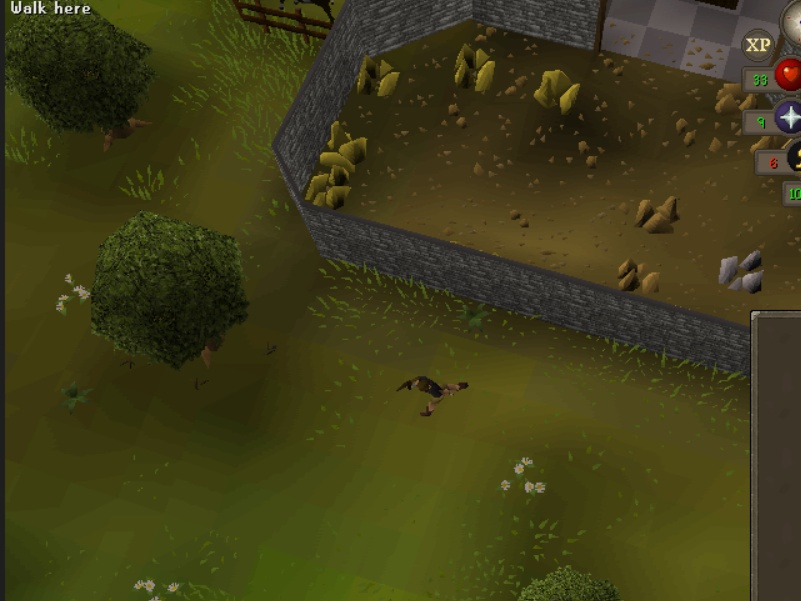clay: (614, 253, 664, 299), (710, 74, 760, 120), (634, 188, 684, 234)
gold: (353, 48, 403, 100), (301, 165, 351, 217), (319, 120, 369, 172), (533, 62, 583, 114), (450, 40, 500, 92)
silver: (717, 247, 768, 301)
